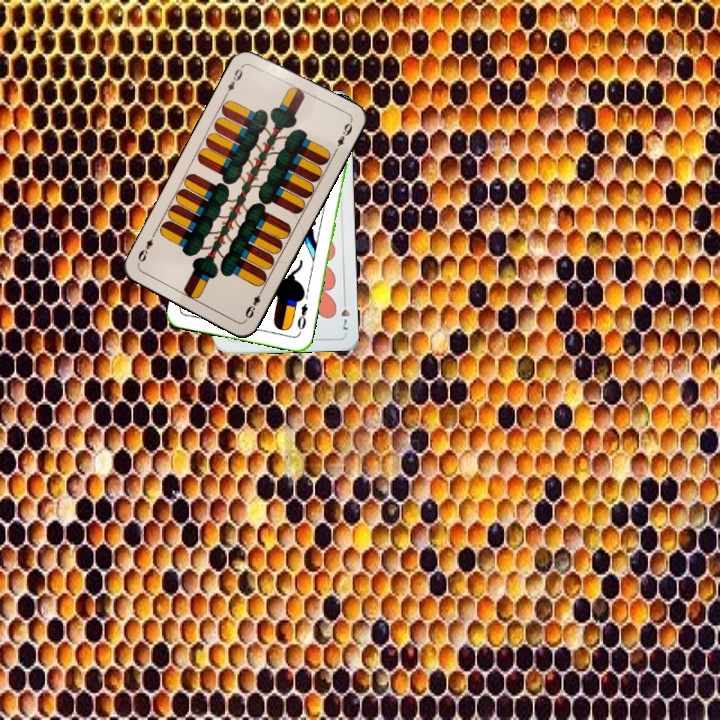E9: (241, 285, 266, 322), (221, 61, 246, 98)
EO: (293, 299, 311, 336)
H7: (337, 294, 353, 333)
